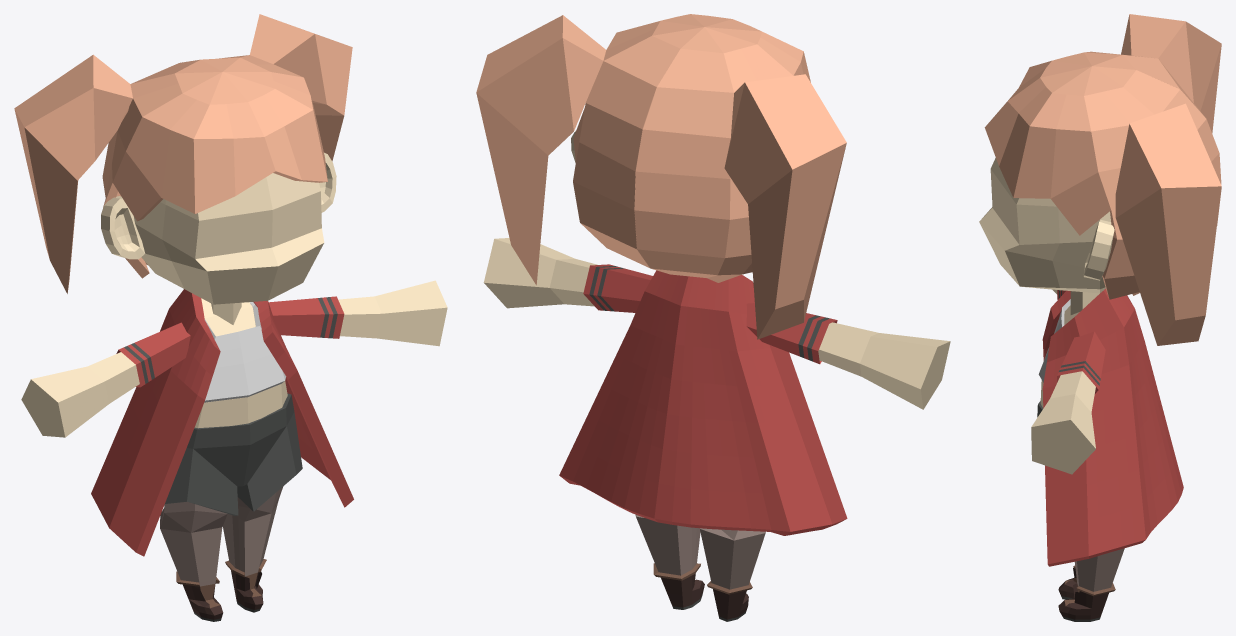
The model's file is Female1OutfitBoots.fbx.
3 renders of one model, left to right at view 1: azimuth 30°, elevation 25°; view 2: azimuth 150°, elevation 25°; view 3: azimuth 270°, elevation 25°, orthographic. The views are drawn at different scales.
Visible parts, largest first — view 1: Hair, Coat, Head, Arms, Shorts, Legs, Tshirt, Body, Ears; view 2: Hair, Coat, Arms, Legs; view 3: Hair, Coat, Head, Arms, Legs, Ears, Neck.
Boxes of the visible parts, bbox=[...] form: Hair: bbox=[14, 14, 352, 293]; Coat: bbox=[91, 289, 353, 556]; Head: bbox=[133, 173, 324, 304]; Arms: bbox=[21, 280, 447, 437]; Shorts: bbox=[165, 393, 302, 515]; Legs: bbox=[160, 486, 283, 621]; Tshirt: bbox=[204, 302, 286, 402]; Body: bbox=[194, 298, 287, 428]; Ears: bbox=[101, 152, 336, 259]; Hair: bbox=[476, 14, 846, 339]; Coat: bbox=[559, 270, 847, 535]; Arms: bbox=[483, 238, 950, 409]; Legs: bbox=[635, 515, 765, 621]; Hair: bbox=[984, 14, 1221, 345]; Coat: bbox=[1042, 289, 1183, 566]; Head: bbox=[979, 158, 1110, 293]; Arms: bbox=[1031, 289, 1105, 474]; Legs: bbox=[1058, 548, 1124, 621]; Ears: bbox=[1083, 220, 1114, 280]; Neck: bbox=[1070, 291, 1099, 314].
Size of the model in its own units: 252 by 320 by 129.
